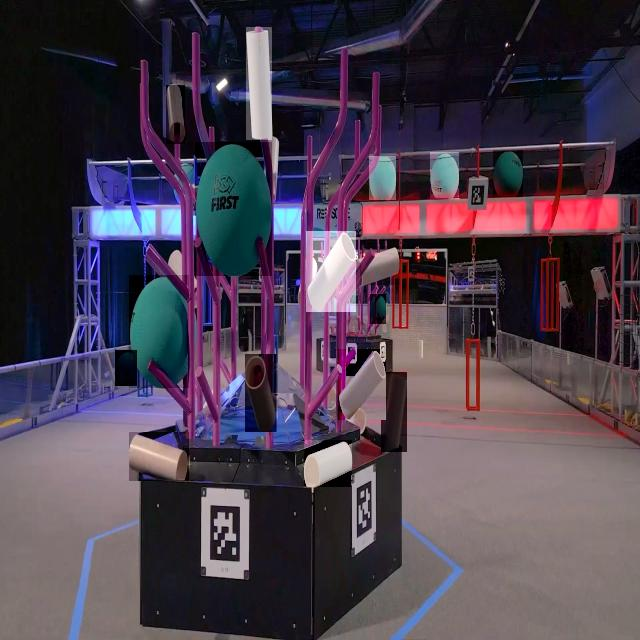Algae: (195, 142, 272, 276), (129, 275, 189, 388), (493, 150, 523, 197), (430, 152, 459, 199), (369, 156, 396, 200), (115, 351, 137, 386), (370, 294, 386, 324)
Coral: (306, 231, 356, 312), (338, 349, 386, 420), (130, 432, 190, 481), (246, 27, 272, 140), (245, 354, 278, 432), (304, 440, 352, 487), (381, 372, 407, 452), (360, 246, 400, 285), (166, 85, 185, 144)
